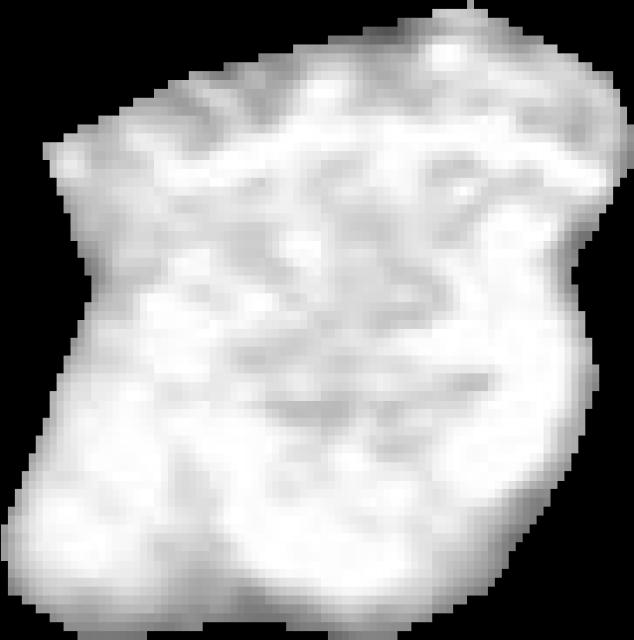tumor_moderate_chance: (1, 0, 634, 640)
